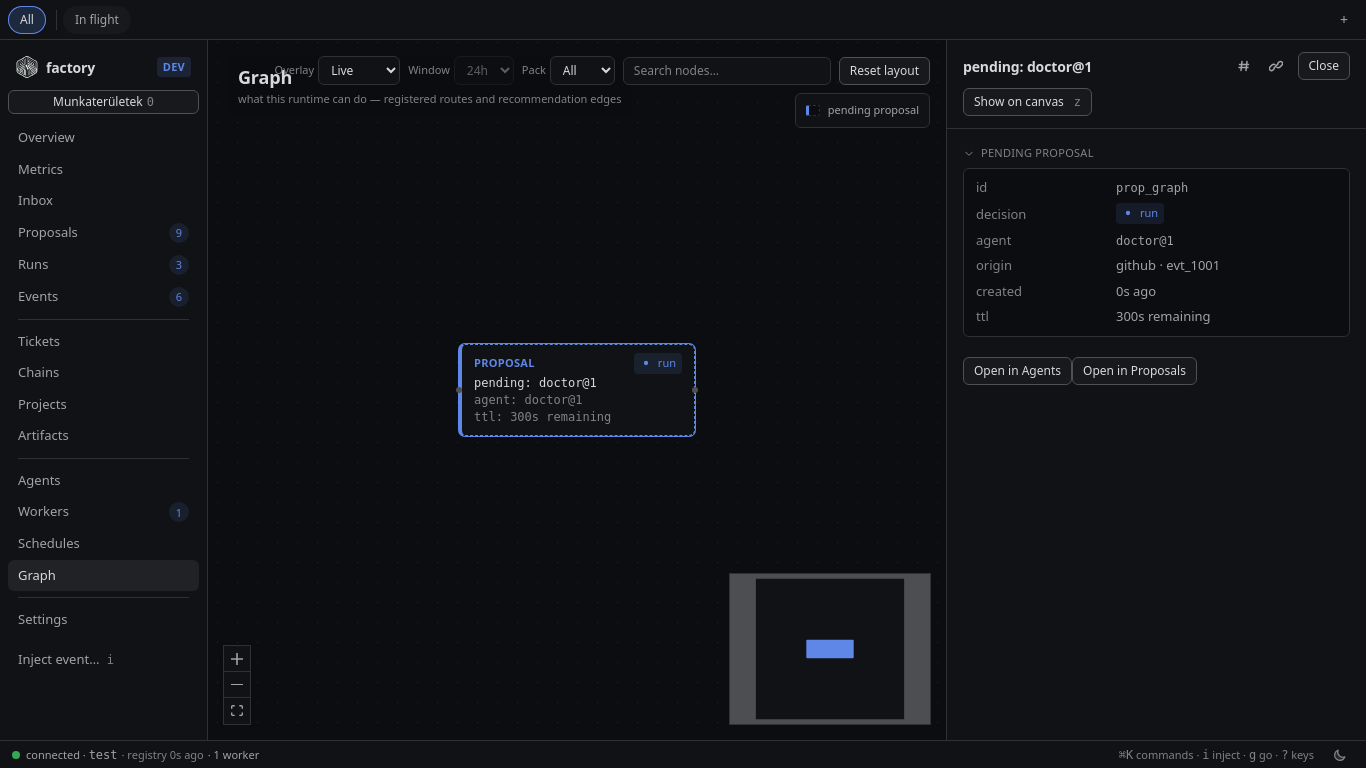
Test: Graph proposal navigation (WM-165) › Open in Proposals routes through App to the selected proposal
Click the button "Open in Proposals" at (1134, 371), box 1072,357 -> 1197,385
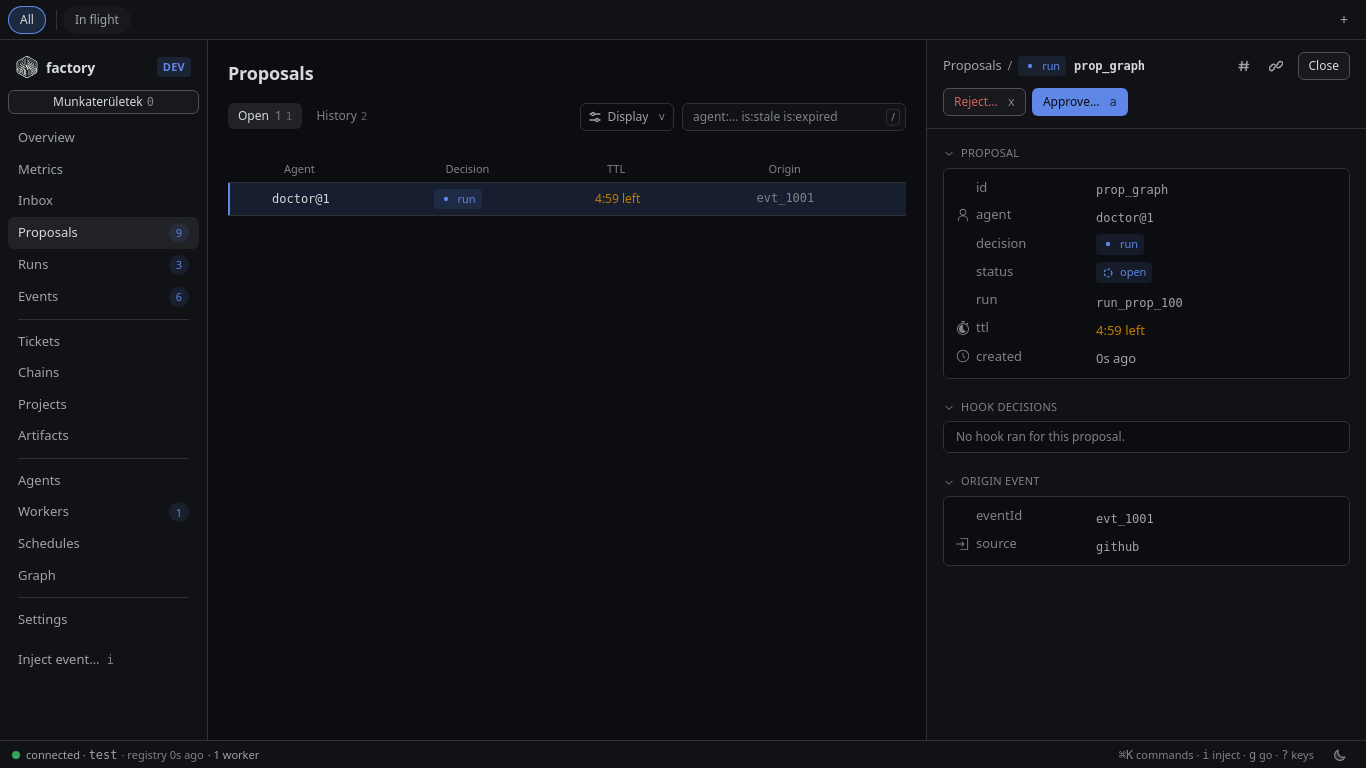
Now the heading "Proposals" is shown, box 228,61 -> 313,85
